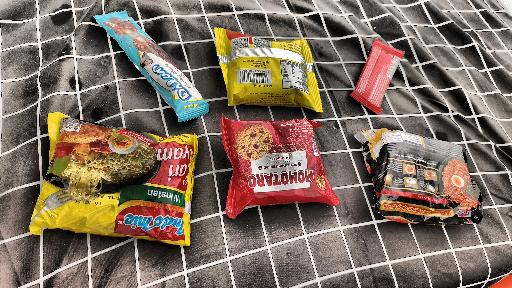chocho: (348, 36, 411, 116)
dilan: (91, 7, 213, 127)
indomie: (29, 111, 192, 248)
mie sedap: (353, 128, 488, 230)
momotaro: (217, 116, 345, 220), (213, 24, 327, 114)
